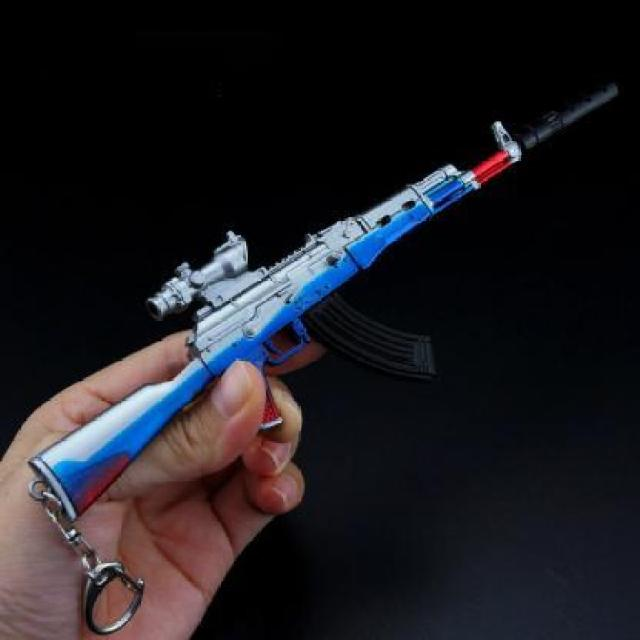weapon: (25, 57, 628, 523)
